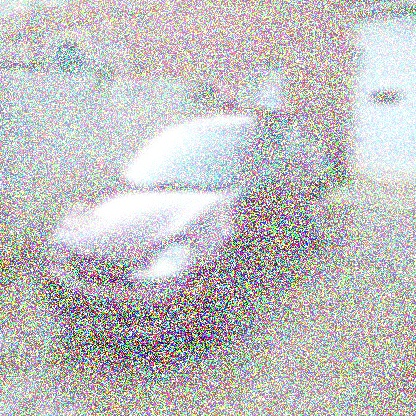Vehicle: (37, 104, 328, 350)
